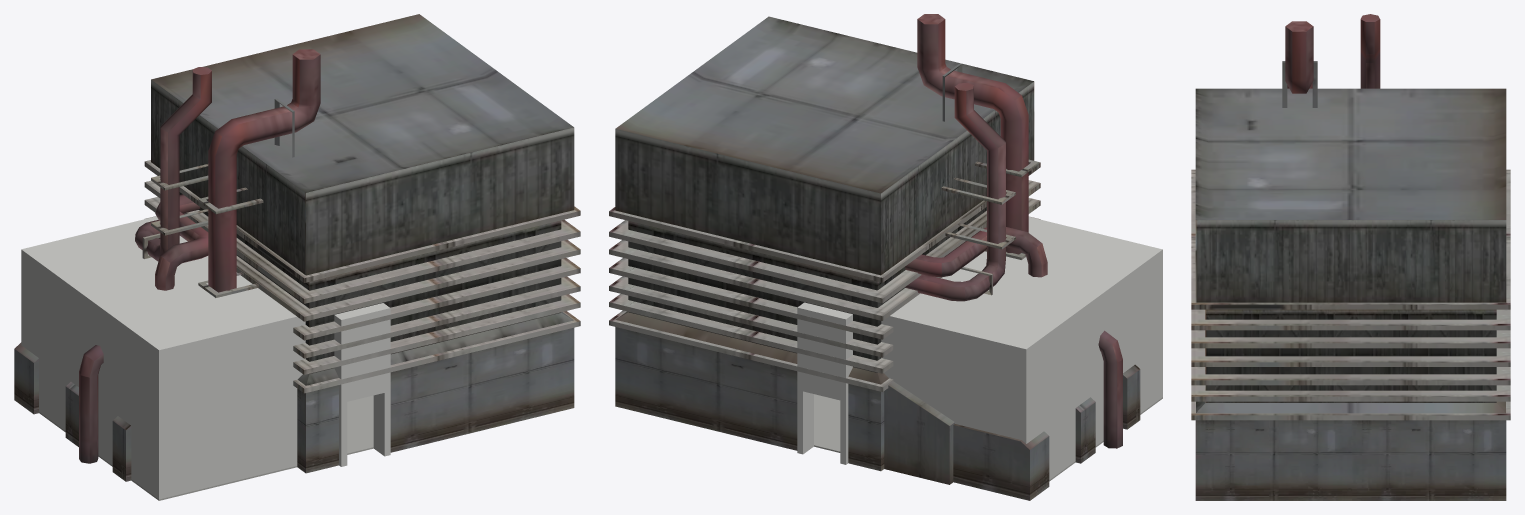
The model's file is ind-smith.access-v9.lod0.glb.
3 renders of one model, left to right at view 1: azimuth 30°, elevation 25°; view 2: azimuth 150°, elevation 25°; view 3: azimuth 270°, elevation 25°, orthographic.
Visible parts, largest first — view 1: Industrial_Smth_1_Industrial_Walls_FLR_1_0, Walkable floors and stairs (×2); view 2: Industrial_Smth_1_Industrial_Walls_FLR_1_0, Walkable floors and stairs (×2); view 3: Industrial_Smth_1_Industrial_Walls_FLR_1_0.
Part boxes in pixels (left/top/right/bottom): Industrial_Smth_1_Industrial_Walls_FLR_1_0: left=14, top=14, right=580, bottom=481; Walkable floors and stairs (×2): left=21, top=216, right=390, bottom=500; Industrial_Smth_1_Industrial_Walls_FLR_1_0: left=609, top=14, right=1140, bottom=500; Walkable floors and stairs (×2): left=797, top=217, right=1162, bottom=481; Industrial_Smth_1_Industrial_Walls_FLR_1_0: left=1191, top=14, right=1510, bottom=500.
Bounding box in the file's own units: 18.34 × 15.04 × 11.8.
Materials: 3 (1 with a texture image).
